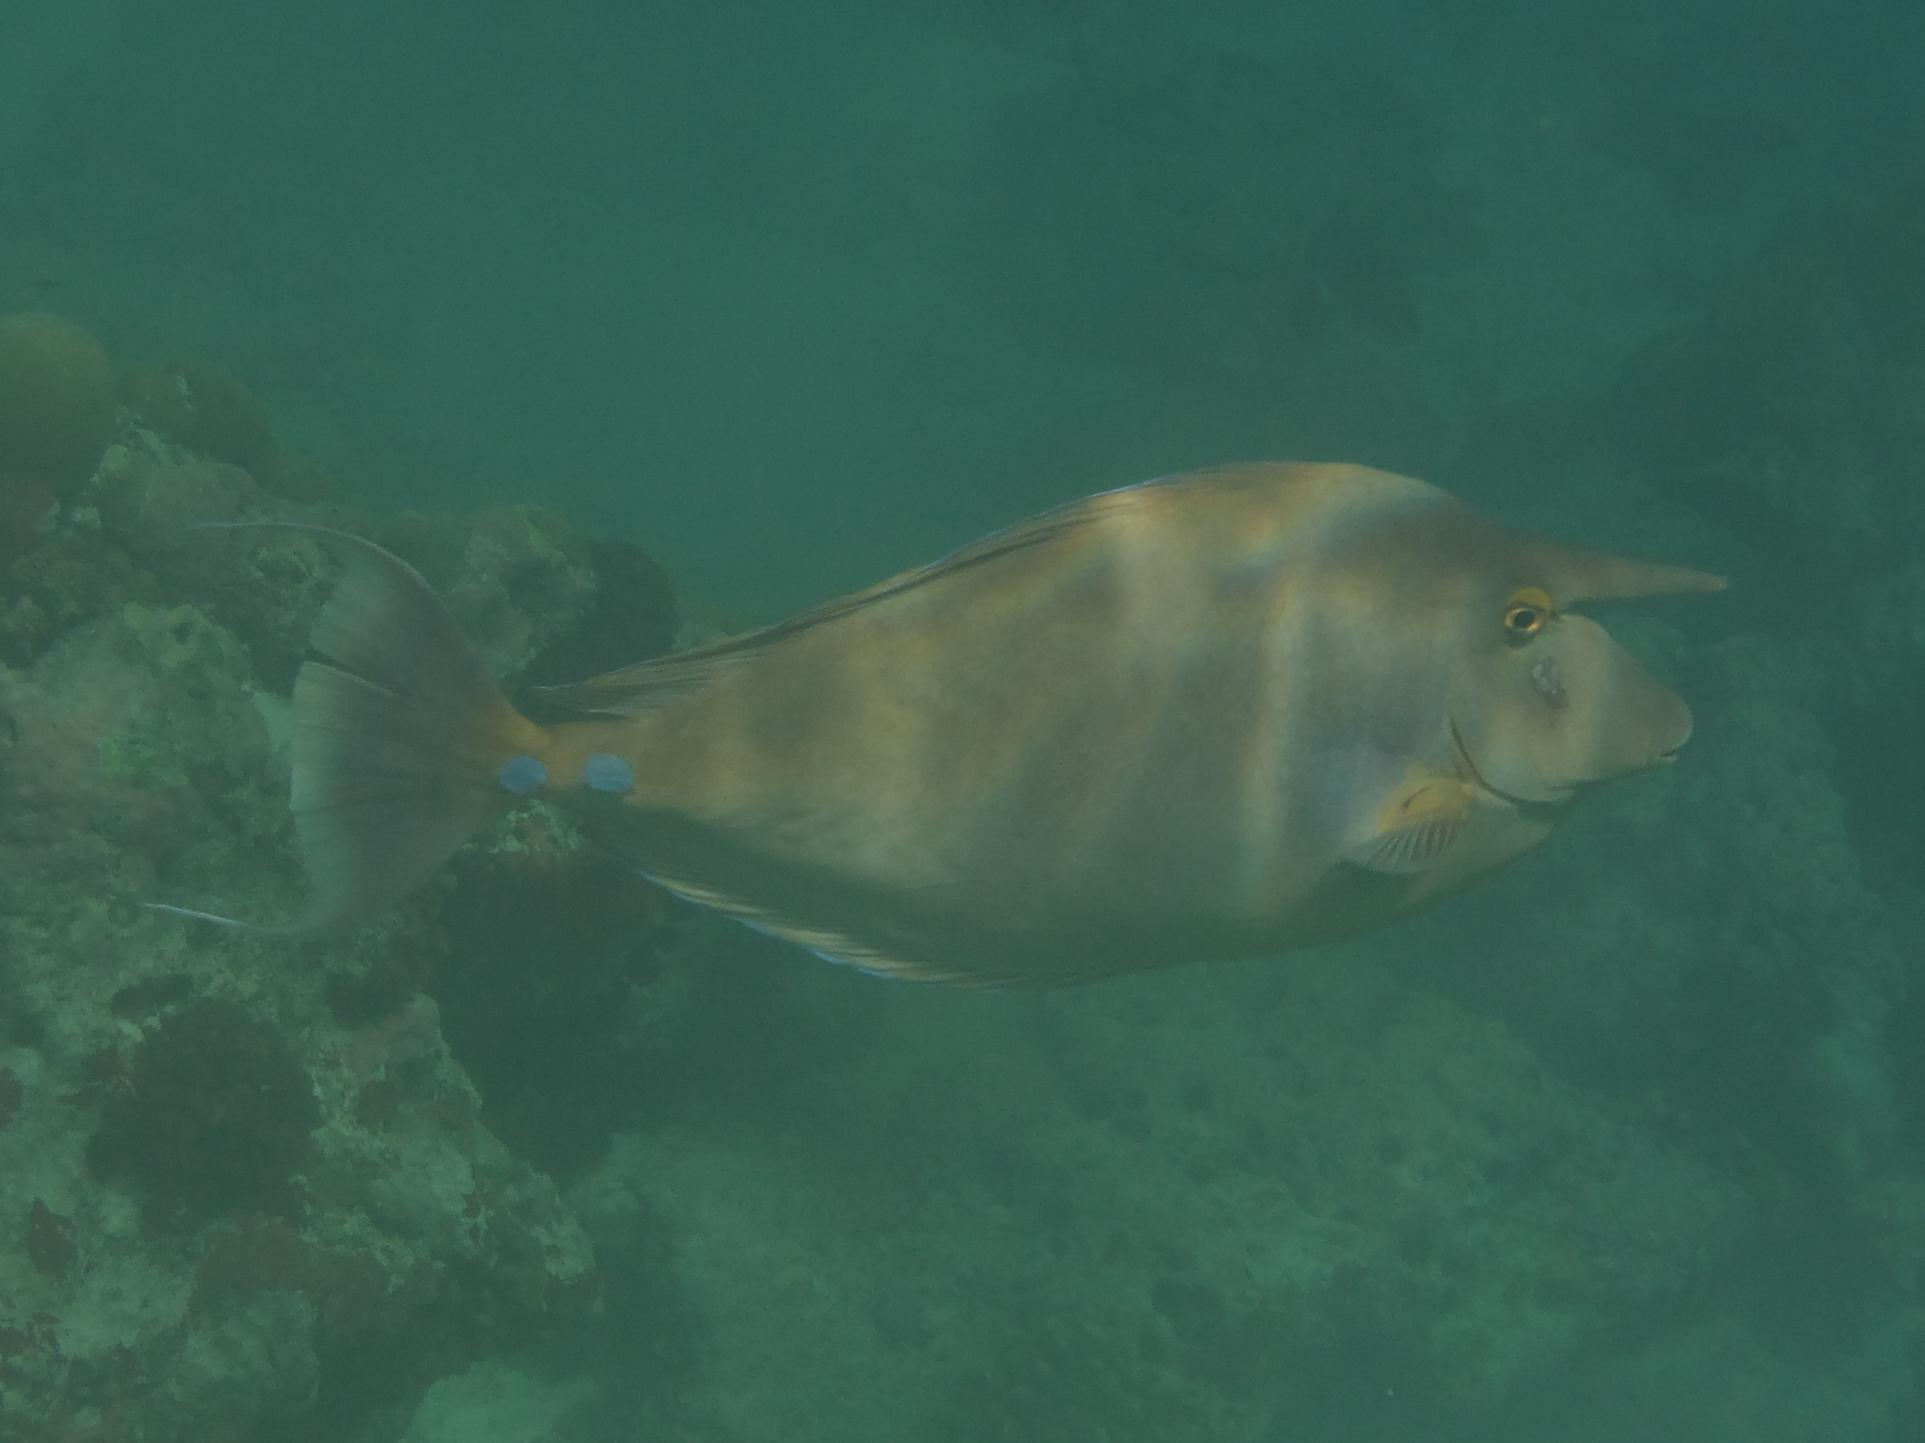Naso unicornis: (205, 402, 1745, 1023)
